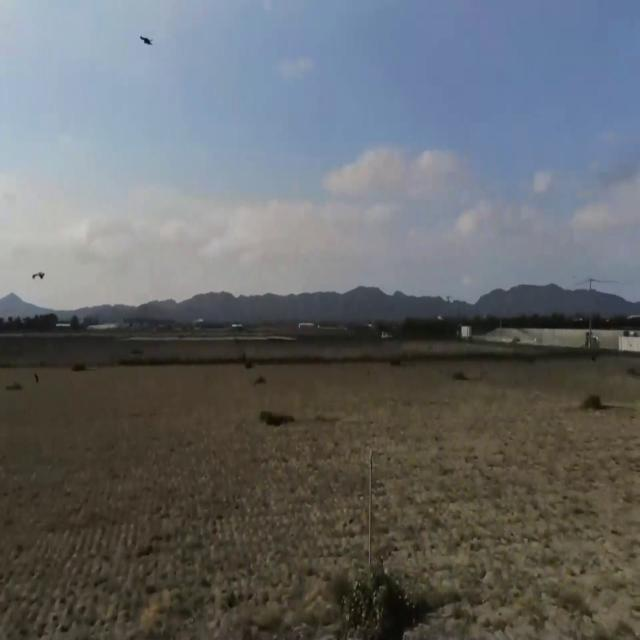bird: (139, 22, 153, 57), (31, 262, 46, 292)
